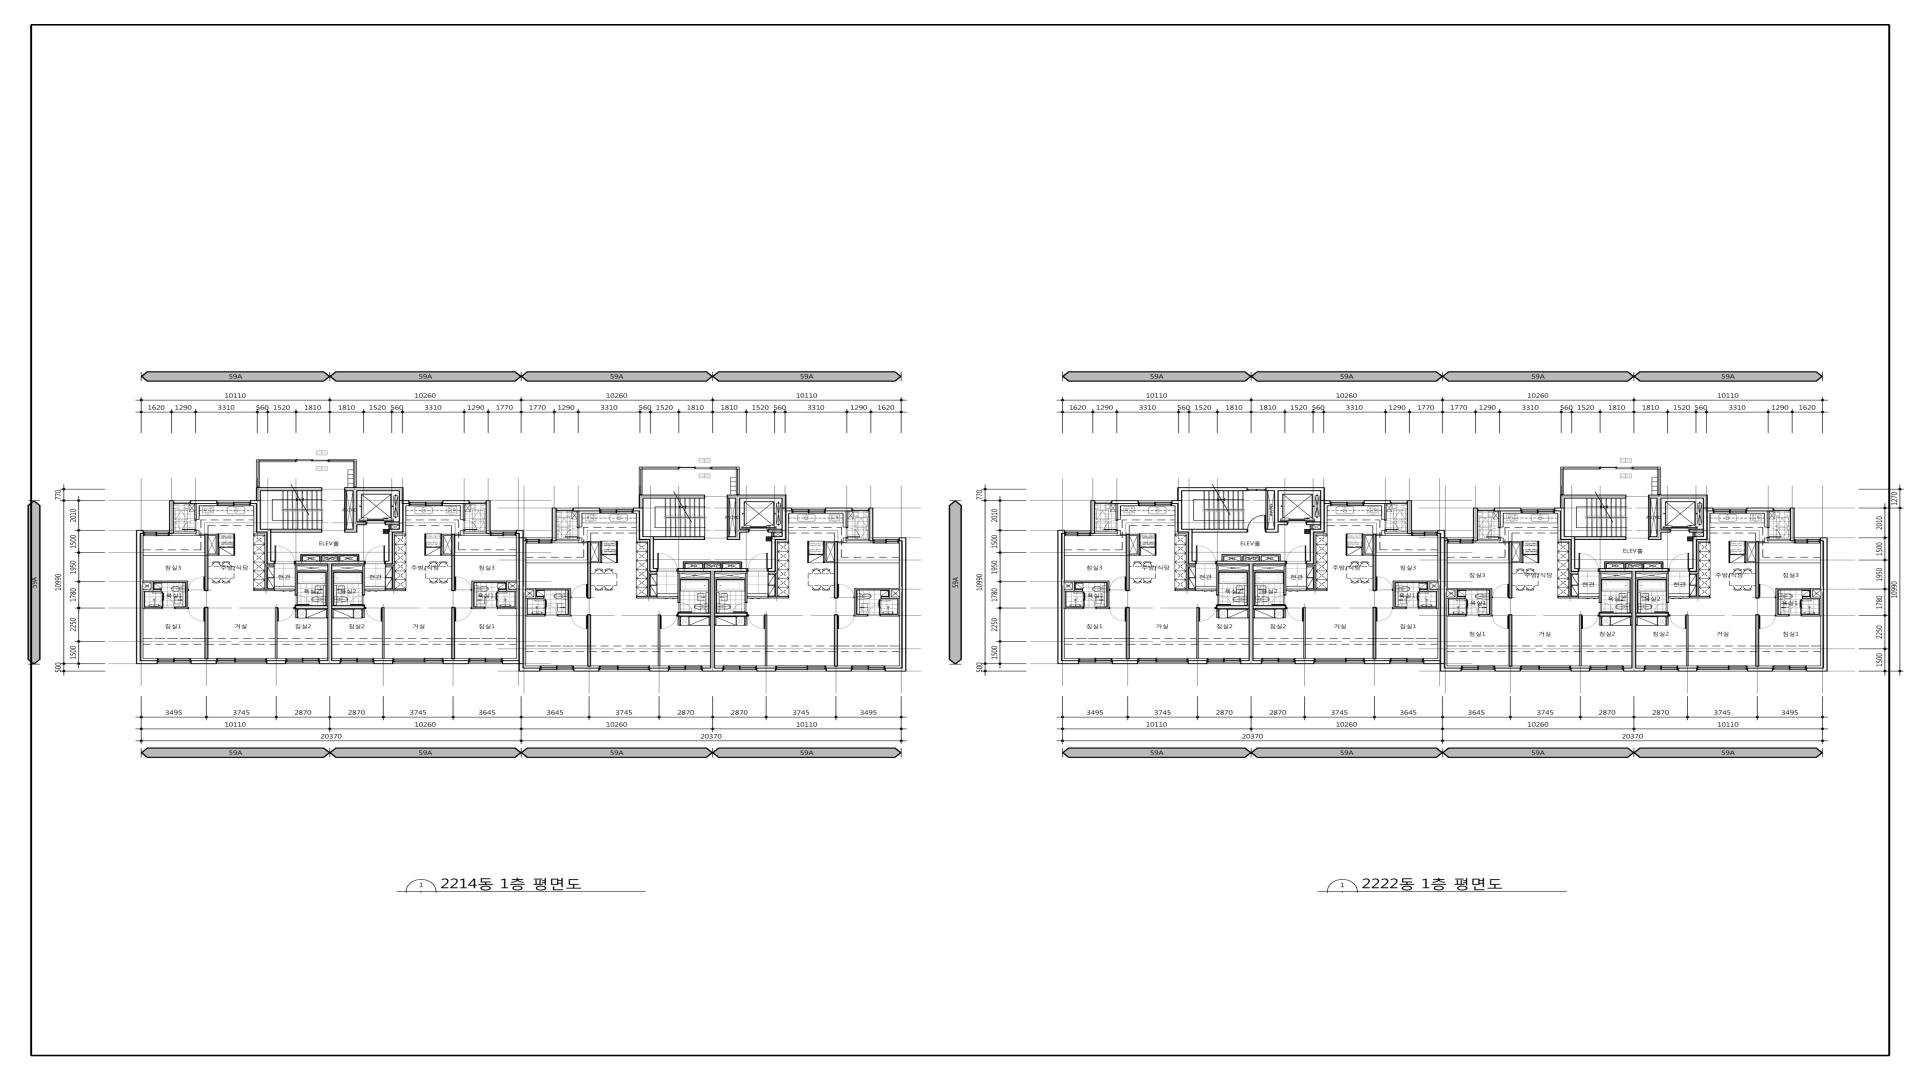door: (1286, 545, 1307, 564), (1196, 545, 1216, 564), (274, 545, 294, 564), (365, 545, 385, 564), (657, 553, 678, 571), (1578, 553, 1598, 571), (1669, 553, 1689, 571), (748, 553, 767, 571), (277, 607, 294, 622), (187, 607, 204, 622), (1199, 607, 1216, 622), (1109, 607, 1126, 622), (837, 584, 855, 599), (837, 615, 855, 629), (748, 615, 765, 629), (661, 615, 678, 629), (455, 607, 472, 621), (365, 607, 382, 621), (1759, 584, 1776, 599), (1759, 615, 1776, 629), (1669, 615, 1687, 629), (1286, 607, 1303, 621), (1109, 576, 1126, 591), (1581, 615, 1598, 629), (571, 615, 587, 629), (1493, 615, 1509, 629), (1377, 607, 1393, 621), (1493, 584, 1509, 599), (1377, 576, 1393, 591), (189, 576, 204, 591), (571, 584, 587, 599), (455, 576, 471, 591), (1598, 601, 1614, 613), (678, 601, 692, 613), (866, 605, 881, 617), (484, 597, 498, 609), (161, 597, 175, 609), (1788, 605, 1803, 617), (1465, 605, 1480, 617), (1083, 597, 1097, 609), (349, 595, 365, 605), (1654, 603, 1669, 613), (1216, 595, 1232, 605), (294, 595, 310, 605), (545, 605, 558, 617), (1406, 597, 1419, 609), (182, 520, 196, 530), (463, 520, 477, 530), (564, 527, 579, 538), (845, 527, 860, 538), (733, 603, 748, 613), (1104, 520, 1118, 530), (1385, 520, 1399, 530), (1486, 527, 1501, 538), (1767, 527, 1782, 538), (1271, 595, 1286, 605), (1195, 588, 1216, 591), (1668, 596, 1689, 599), (1578, 596, 1600, 599), (1286, 588, 1307, 591), (748, 596, 769, 599), (657, 596, 678, 599), (274, 588, 295, 591), (365, 588, 385, 591)
wall: (1822, 541, 1828, 667), (136, 534, 141, 661), (1440, 538, 1445, 663), (518, 538, 524, 663), (1249, 564, 1254, 661), (327, 564, 332, 661), (1631, 572, 1636, 667), (1058, 534, 1062, 661), (902, 541, 906, 667), (711, 572, 715, 667), (1598, 568, 1669, 572), (1216, 560, 1287, 564), (294, 560, 365, 564), (678, 568, 748, 572), (638, 495, 705, 498), (1560, 495, 1626, 498), (1320, 487, 1325, 533), (398, 487, 404, 533), (1648, 495, 1708, 498), (727, 495, 786, 498), (1755, 541, 1759, 599), (1509, 541, 1513, 599), (587, 541, 591, 599), (451, 534, 455, 591), (1126, 534, 1130, 591), (1373, 534, 1377, 591), (204, 534, 208, 591), (1656, 498, 1662, 539), (1702, 498, 1708, 539), (587, 615, 591, 667), (1126, 607, 1130, 659), (1373, 607, 1377, 659), (1755, 615, 1759, 667), (1509, 615, 1513, 667), (833, 615, 837, 667), (204, 607, 208, 659), (451, 607, 455, 659), (1575, 537, 1626, 541), (1192, 529, 1244, 533), (654, 537, 705, 541), (1274, 491, 1279, 529), (352, 491, 357, 529), (272, 529, 322, 533), (1407, 500, 1412, 534), (485, 500, 491, 534), (169, 500, 174, 534), (1789, 508, 1795, 541), (1473, 508, 1478, 541), (1178, 488, 1244, 491), (256, 488, 322, 491), (551, 508, 556, 541), (736, 498, 740, 539), (782, 498, 786, 539), (1221, 554, 1280, 556), (835, 541, 837, 599), (301, 554, 359, 556), (256, 504, 261, 533), (1560, 512, 1565, 539), (1571, 541, 1576, 568), (1309, 533, 1315, 560), (388, 533, 393, 560), (266, 533, 272, 560), (638, 512, 644, 539), (649, 541, 654, 568), (1266, 488, 1320, 491), (344, 488, 398, 491), (658, 615, 661, 666), (1196, 607, 1199, 658), (1303, 607, 1305, 658), (1091, 500, 1095, 534), (1578, 615, 1581, 666), (765, 615, 767, 666), (274, 607, 277, 658), (382, 607, 385, 658), (678, 613, 711, 617), (1216, 605, 1249, 609), (1636, 613, 1669, 617), (1598, 613, 1631, 617), (715, 613, 748, 617), (332, 605, 365, 609), (294, 605, 327, 609), (869, 508, 873, 541), (1254, 605, 1286, 609), (1178, 504, 1182, 533), (1693, 541, 1697, 568), (1188, 533, 1192, 560), (190, 500, 218, 504), (771, 541, 775, 568), (1560, 467, 1600, 469), (1747, 508, 1774, 512), (1494, 508, 1520, 512), (1364, 500, 1390, 504), (1112, 500, 1138, 504), (1112, 661, 1138, 665), (443, 661, 469, 665), (443, 500, 469, 504), (256, 459, 295, 462), (256, 462, 260, 488), (825, 508, 852, 512), (574, 508, 600, 512), (1266, 491, 1269, 529), (1648, 498, 1651, 537), (640, 467, 678, 469), (344, 491, 347, 529), (727, 498, 729, 537), (574, 667, 599, 671), (1658, 469, 1662, 495), (1747, 667, 1772, 671), (1560, 469, 1564, 495), (1495, 667, 1520, 671), (1365, 661, 1390, 665), (191, 661, 216, 665), (736, 469, 740, 495), (827, 667, 852, 671), (1393, 580, 1428, 583), (153, 580, 189, 583), (472, 580, 506, 583), (1075, 580, 1109, 583), (1623, 667, 1644, 671), (1807, 667, 1828, 671), (1241, 661, 1262, 665), (1058, 661, 1079, 665), (136, 661, 157, 665), (319, 661, 340, 665), (1218, 570, 1249, 572), (745, 572, 748, 603), (297, 570, 327, 572), (1188, 661, 1208, 665), (266, 661, 286, 665), (703, 667, 723, 671), (886, 667, 906, 671), (683, 562, 742, 563), (1283, 566, 1286, 595), (1216, 566, 1218, 595), (1605, 562, 1663, 563), (353, 459, 356, 488), (363, 566, 365, 595), (650, 667, 669, 671), (1634, 467, 1662, 469), (1679, 667, 1697, 671), (1295, 661, 1313, 665), (1571, 667, 1589, 671), (678, 574, 680, 601), (375, 661, 393, 665), (712, 467, 740, 469), (757, 667, 775, 671), (1490, 589, 1493, 616), (568, 589, 571, 616), (1687, 615, 1688, 666), (502, 661, 520, 665), (640, 469, 642, 495), (1445, 667, 1461, 671), (1424, 661, 1440, 665), (1393, 583, 1395, 607), (1313, 566, 1316, 589), (775, 572, 778, 596), (647, 572, 650, 596), (186, 583, 189, 607), (524, 667, 539, 671), (330, 459, 353, 462), (1185, 566, 1188, 588), (824, 541, 827, 563), (1305, 521, 1320, 525), (385, 521, 400, 525), (767, 529, 782, 533), (1137, 534, 1139, 555), (1095, 531, 1116, 534), (1689, 596, 1710, 599), (1557, 596, 1578, 599), (1386, 531, 1407, 534), (1307, 588, 1328, 591), (636, 596, 657, 599), (253, 588, 274, 591), (385, 588, 406, 591), (442, 535, 444, 555), (1175, 588, 1195, 591), (1689, 529, 1702, 533), (1266, 529, 1279, 533), (1362, 535, 1365, 555), (769, 596, 789, 599), (599, 543, 601, 563), (174, 531, 194, 534), (344, 529, 357, 533), (465, 531, 485, 534), (1436, 591, 1439, 609), (1560, 498, 1565, 508), (142, 591, 145, 609), (256, 491, 261, 500), (638, 498, 644, 508), (1457, 588, 1493, 589), (535, 588, 571, 589), (1065, 607, 1083, 609), (1419, 607, 1436, 609), (1776, 588, 1811, 589), (1447, 599, 1449, 616), (1630, 579, 1631, 613), (855, 588, 889, 589), (498, 607, 516, 609), (709, 579, 711, 613), (715, 579, 716, 613), (332, 571, 334, 605), (525, 599, 527, 616), (1247, 572, 1249, 605), (1116, 504, 1118, 520), (1555, 508, 1565, 512), (1440, 663, 1445, 671), (1309, 529, 1320, 533), (1182, 529, 1192, 533), (1767, 512, 1770, 527), (1498, 512, 1501, 527), (845, 512, 848, 527), (145, 607, 161, 609), (194, 504, 196, 520), (389, 529, 400, 533), (251, 500, 261, 504), (261, 529, 272, 533), (463, 504, 465, 520), (518, 663, 524, 671), (771, 537, 782, 541), (633, 508, 644, 512), (644, 537, 654, 541), (1667, 572, 1668, 603), (1601, 578, 1631, 579), (1636, 578, 1667, 579), (332, 570, 363, 571), (680, 578, 711, 579), (715, 578, 745, 579), (1254, 570, 1283, 571), (295, 566, 297, 595), (1662, 529, 1671, 533), (1693, 537, 1702, 541), (1565, 537, 1575, 541), (1279, 521, 1288, 525), (1172, 500, 1182, 504), (1178, 491, 1182, 500), (1600, 574, 1601, 601), (357, 521, 367, 525), (727, 537, 736, 541), (740, 529, 749, 533), (1393, 607, 1406, 609), (1776, 589, 1778, 615), (855, 589, 856, 615), (472, 583, 473, 607), (472, 607, 484, 609), (1097, 607, 1109, 609), (1108, 583, 1109, 607), (1648, 537, 1656, 541), (1689, 568, 1697, 572), (1820, 538, 1828, 542), (1571, 568, 1578, 572), (1437, 530, 1445, 534), (1307, 560, 1315, 564), (1188, 560, 1196, 564), (1697, 572, 1698, 596), (1569, 572, 1571, 596), (175, 607, 187, 609), (385, 560, 393, 564), (266, 560, 274, 564), (136, 530, 144, 534), (393, 566, 394, 589), (767, 568, 775, 572), (649, 568, 657, 572), (516, 530, 524, 534), (1746, 541, 1747, 563), (1478, 539, 1501, 541), (265, 566, 266, 588), (556, 539, 579, 541), (506, 580, 517, 583), (1064, 580, 1075, 583), (1428, 580, 1439, 583), (848, 539, 869, 541), (591, 541, 601, 543), (216, 534, 218, 555), (142, 580, 153, 583), (1058, 530, 1064, 534), (1770, 539, 1789, 541), (1520, 543, 1522, 563), (899, 538, 906, 542), (1216, 609, 1218, 618), (1064, 591, 1065, 609), (1811, 589, 1813, 599), (1513, 541, 1522, 543), (889, 589, 891, 599), (516, 591, 517, 609), (1803, 615, 1820, 616), (1820, 599, 1821, 616), (1448, 615, 1465, 616), (881, 615, 898, 616), (898, 599, 899, 616), (527, 615, 545, 616), (506, 583, 509, 591), (1708, 508, 1713, 512), (1440, 534, 1445, 538), (1325, 500, 1331, 504), (1747, 560, 1755, 563), (1747, 541, 1755, 543), (1513, 560, 1520, 563), (1455, 589, 1457, 597), (1385, 504, 1386, 520), (827, 560, 835, 563), (827, 541, 835, 543), (591, 560, 599, 563), (745, 617, 748, 625), (404, 500, 409, 504), (786, 508, 791, 512), (518, 534, 524, 538), (578, 512, 579, 527), (1072, 583, 1075, 589), (837, 541, 844, 543), (150, 583, 153, 589), (1175, 534, 1187, 535), (1776, 615, 1788, 616), (1316, 534, 1328, 535), (855, 615, 866, 616), (253, 534, 265, 535), (394, 534, 406, 535), (1064, 589, 1075, 591), (1759, 541, 1764, 543), (1811, 588, 1821, 589), (1503, 541, 1509, 543), (1447, 588, 1457, 589), (1447, 597, 1457, 599), (1480, 615, 1490, 616), (1660, 563, 1663, 568), (1642, 563, 1644, 568), (1623, 563, 1626, 568), (1605, 563, 1607, 568), (889, 588, 899, 589), (582, 541, 587, 543), (142, 589, 153, 591), (525, 588, 535, 589), (525, 597, 535, 599), (558, 615, 568, 616), (740, 563, 742, 568), (720, 563, 723, 568), (702, 563, 704, 568), (683, 563, 686, 568), (442, 534, 451, 535), (1284, 609, 1286, 618), (1801, 597, 1811, 599), (1429, 589, 1439, 591), (1364, 534, 1373, 535), (363, 609, 364, 618), (295, 609, 297, 618), (678, 617, 679, 625), (509, 589, 517, 591), (498, 589, 506, 591), (463, 530, 465, 534), (1116, 530, 1118, 534), (1075, 589, 1083, 591), (1278, 556, 1280, 560), (1259, 556, 1262, 560), (1241, 556, 1244, 560), (1221, 556, 1224, 560), (1689, 572, 1697, 574), (1693, 533, 1696, 537), (1571, 572, 1578, 574), (1309, 525, 1312, 529), (1188, 566, 1196, 567), (1667, 617, 1668, 625), (1813, 597, 1821, 599), (1457, 597, 1465, 599), (1600, 617, 1601, 625), (1428, 583, 1429, 591), (1420, 589, 1428, 591), (1365, 554, 1373, 555), (891, 597, 899, 599), (881, 597, 889, 599), (153, 589, 161, 591), (338, 556, 340, 560), (319, 556, 322, 560), (301, 556, 303, 560), (771, 533, 774, 537), (389, 525, 392, 529), (266, 566, 274, 567), (208, 554, 216, 555), (208, 534, 216, 535), (194, 530, 196, 534), (385, 566, 393, 567), (534, 589, 535, 597), (535, 597, 543, 599), (444, 554, 451, 555), (1130, 554, 1137, 555), (1130, 534, 1137, 535), (1120, 534, 1126, 535), (1307, 566, 1313, 567), (769, 572, 775, 574), (650, 572, 657, 574), (455, 534, 460, 535), (1445, 538, 1448, 541), (1767, 538, 1770, 541), (1377, 534, 1382, 535), (845, 538, 848, 541), (199, 534, 204, 535), (524, 538, 526, 541), (1385, 530, 1386, 534), (357, 556, 359, 560), (1498, 538, 1501, 539), (578, 538, 579, 539), (1254, 571, 1254, 605), (1636, 579, 1636, 613), (327, 572, 327, 605)
window: (1313, 658, 1365, 665), (1138, 658, 1188, 665), (393, 658, 443, 665), (216, 658, 266, 665), (775, 666, 827, 671), (599, 666, 650, 671), (1697, 666, 1747, 671), (1520, 666, 1571, 671), (409, 500, 443, 506), (1207, 658, 1241, 665), (1138, 500, 1172, 506), (218, 500, 251, 506), (1331, 500, 1364, 506), (286, 658, 319, 665), (1390, 658, 1424, 663), (1461, 666, 1495, 671), (1589, 666, 1623, 671), (1644, 666, 1679, 671), (1772, 666, 1807, 671), (1713, 508, 1747, 513), (1520, 508, 1555, 513), (157, 658, 191, 663), (340, 658, 375, 663), (468, 658, 502, 663), (539, 666, 574, 671), (669, 666, 703, 671), (723, 666, 757, 671), (791, 508, 825, 513), (1079, 658, 1112, 663), (1262, 658, 1295, 663), (1064, 530, 1091, 537), (852, 666, 885, 671), (600, 508, 633, 513), (144, 530, 169, 537), (526, 538, 553, 543), (873, 538, 899, 543), (1411, 530, 1437, 535), (491, 530, 516, 535), (1448, 538, 1473, 543), (1795, 538, 1820, 543), (678, 467, 712, 469), (295, 459, 330, 462), (1600, 467, 1634, 469), (1095, 500, 1112, 504), (1390, 500, 1407, 504), (1774, 508, 1791, 512), (556, 508, 574, 512), (852, 508, 869, 512), (1478, 508, 1494, 512), (174, 500, 190, 504), (469, 500, 485, 504)
